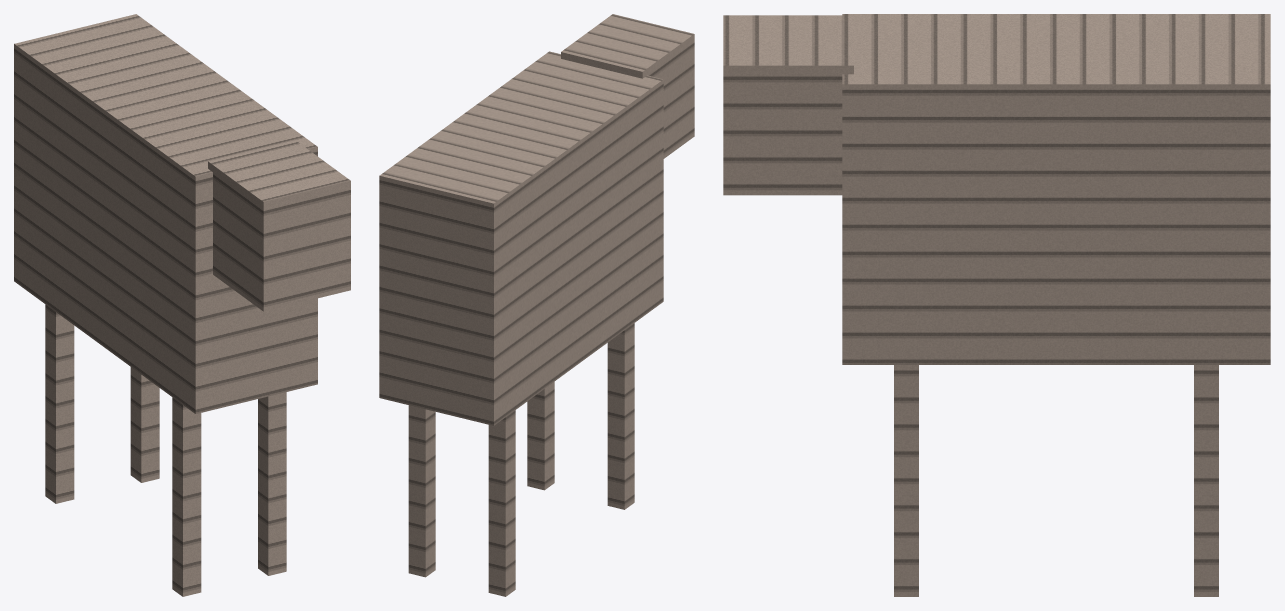
Rendered from animal_horse.glb.
3 views of the same model, side by side, from view 1: azimuth 30°, elevation 25°; view 2: azimuth 150°, elevation 25°; view 3: azimuth 270°, elevation 25° (orthographic). The views are drawn at different scales.
Visible parts, largest first — view 1: animal_horse-col; view 2: animal_horse-col; view 3: animal_horse-col.
Part boxes in pixels (box(x1,y1,x2,y2)): animal_horse-col: box(14, 14, 350, 596); animal_horse-col: box(379, 14, 694, 596); animal_horse-col: box(723, 14, 1270, 596).
Bounding box in the file's own units: 0.7 × 2.44 × 2.3.
Materials: 1 (1 with a texture image).
